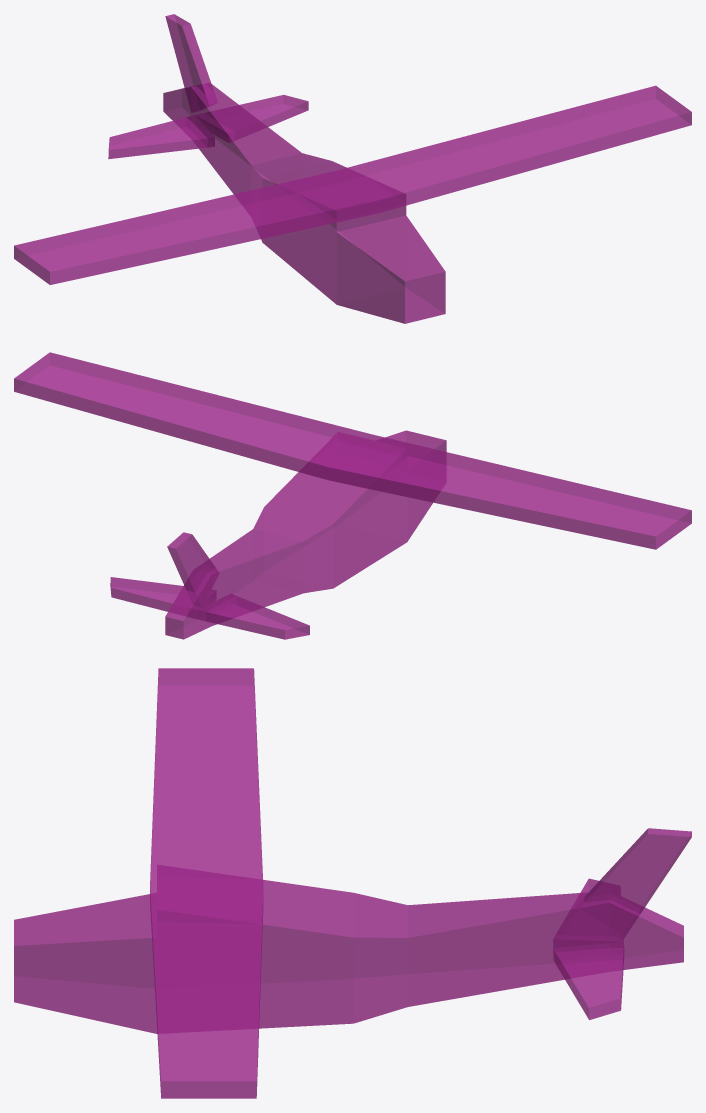
File: SM_Veh_Plane_01_Collision.fbx
The picture shows the model from 3 angles, top to bottom: view 1: azimuth 30°, elevation 25°; view 2: azimuth 150°, elevation 25°; view 3: azimuth 270°, elevation 25°; orthographic projection. The views are drawn at different scales.
Parts seen in each view (by area): view 1: SM_Veh_Plane_01_Collision; view 2: SM_Veh_Plane_01_Collision; view 3: SM_Veh_Plane_01_Collision.
Part boxes in pixels (x1,y1,x2,y2): SM_Veh_Plane_01_Collision: (14,14,691,323); SM_Veh_Plane_01_Collision: (14,352,691,639); SM_Veh_Plane_01_Collision: (14,668,691,1098).
Bounding box in the file's own units: 1366 × 276 × 941.
